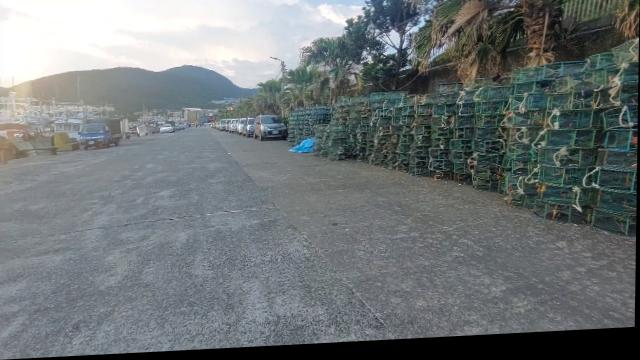pollute: (290, 142, 317, 157)
